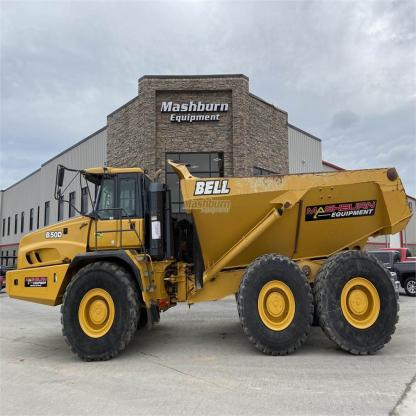dump_truck: (10, 152, 411, 376)
